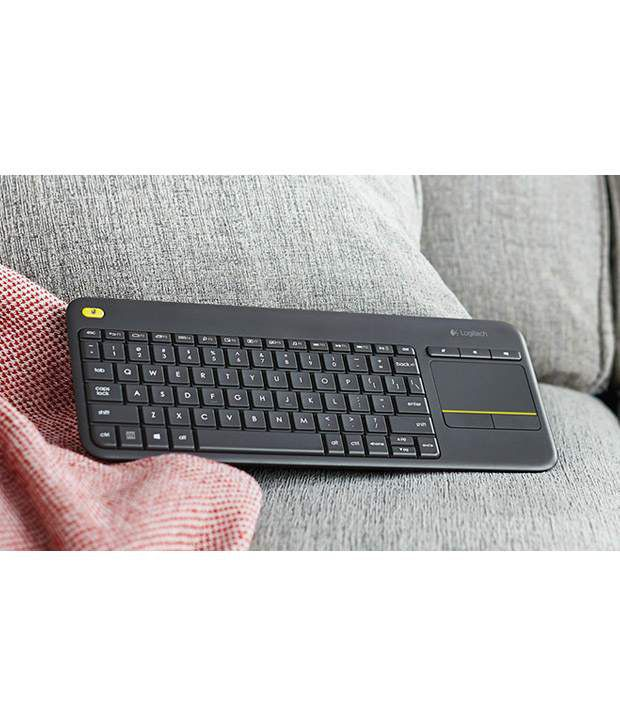logitech-keyboard-k400: (73, 311, 547, 465)
